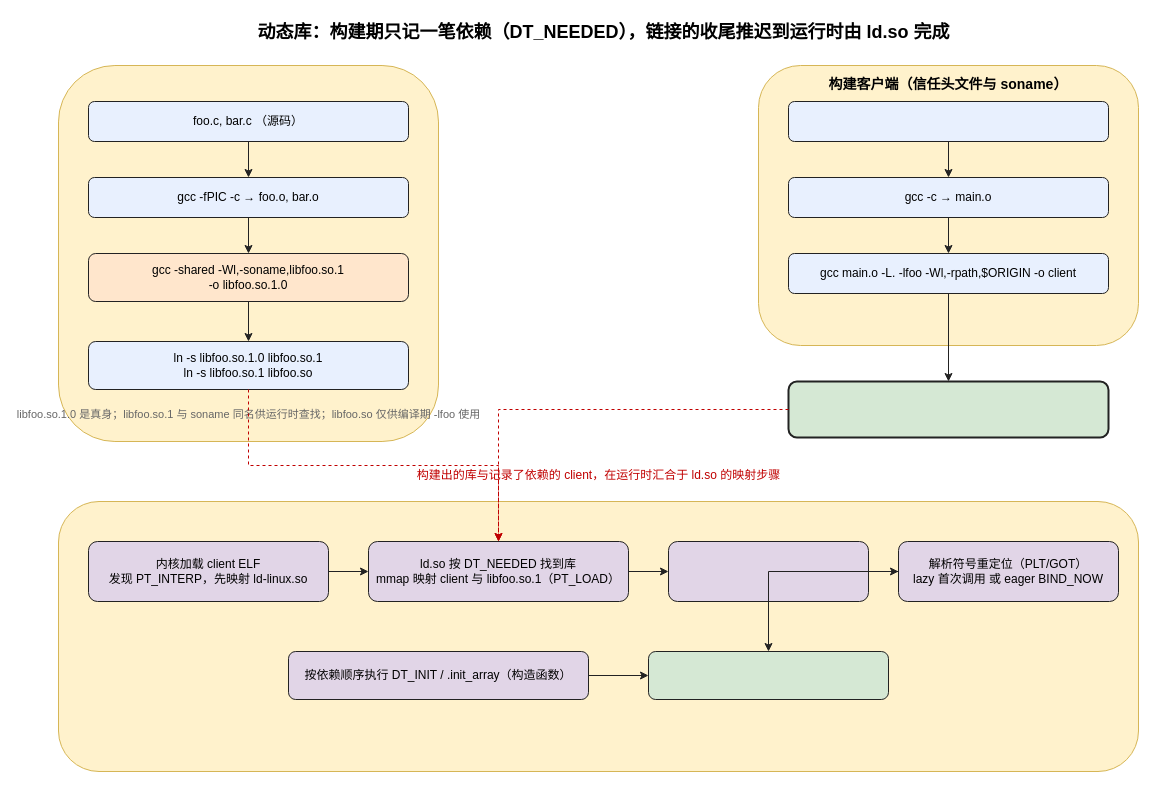
Image size: 1156x789. Some labels were removed from this diagram. The shapes that lost their labels are listed below. From the top down, each one's box as (x1, y1, x2, y2) in pixels, then its label:
(788, 100, 1108, 142): main.c （使用 foo.h 的声明）
(58, 64, 438, 442): 构建动态库
(787, 380, 1109, 438): client ELF：不复制库代码，只记录 DT_NEEDED: libfoo.so.1
(668, 540, 868, 602): 处理 RELATIVE 重定位 （基址修正）
(58, 500, 1138, 772): 运行时：内核 → ld.so → 程序
(648, 650, 888, 700): 转交控制权：_start → main
